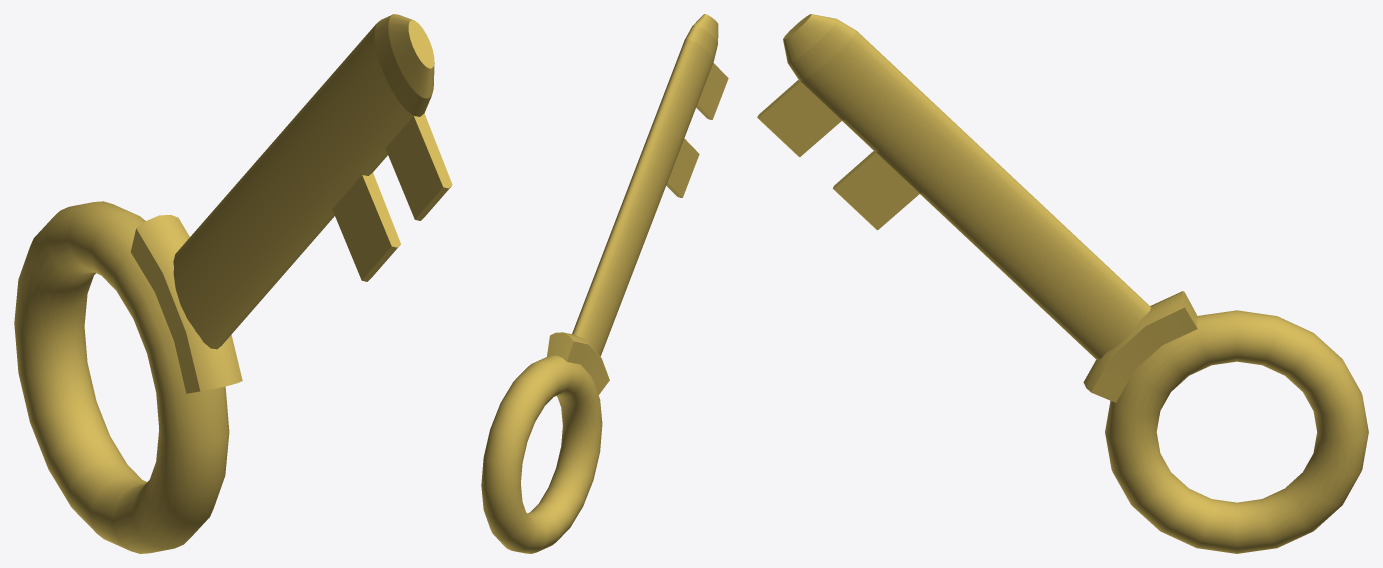
The model's file is Key.fbx.
3 views of the same model, side by side, from view 1: azimuth 30°, elevation 25°; view 2: azimuth 150°, elevation 25°; view 3: azimuth 270°, elevation 25° (orthographic). The views are drawn at different scales.
Parts seen in each view (by area): view 1: Key; view 2: Key; view 3: Key.
Boxes of the visible parts, box(x1,y1,x2,y2) form: Key: box(14, 14, 452, 553); Key: box(481, 14, 728, 553); Key: box(757, 14, 1368, 553).
Size of the model in its own units: 6.82 by 78.11 by 80.62.
